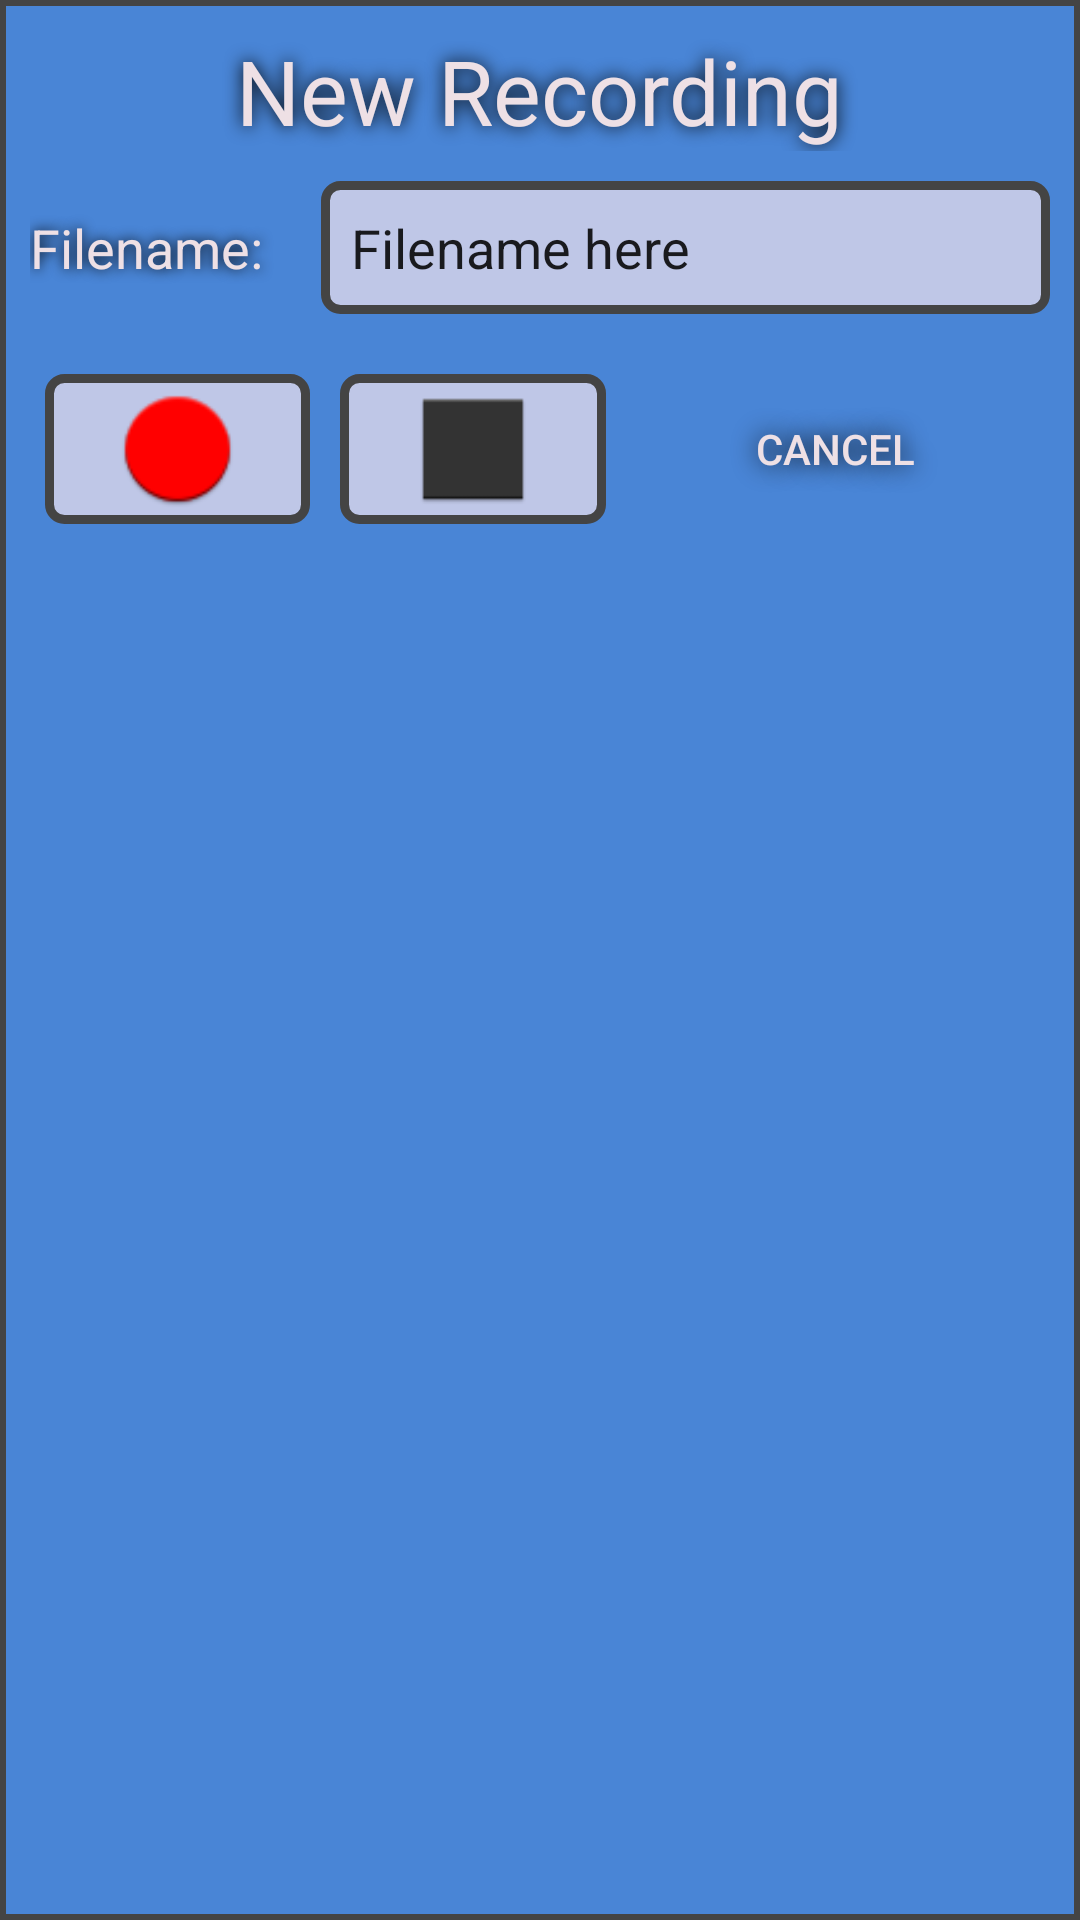

Where icons sit on this 1080 × 1920 app screen, as (x1, y1, x2, y2):
record: (45, 374, 310, 524)
stop: (340, 374, 606, 524)
